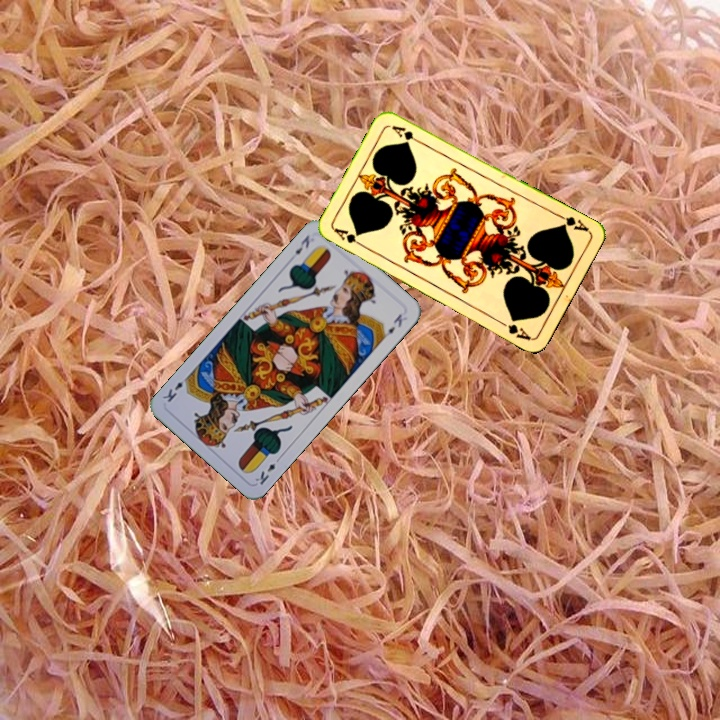EK: (251, 452, 284, 487), (291, 231, 312, 257)
GA: (330, 224, 368, 250), (553, 210, 592, 234)
